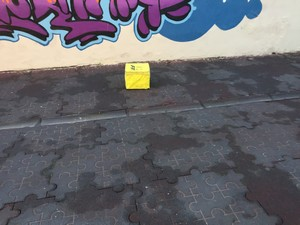cube: (125, 63, 151, 90)
